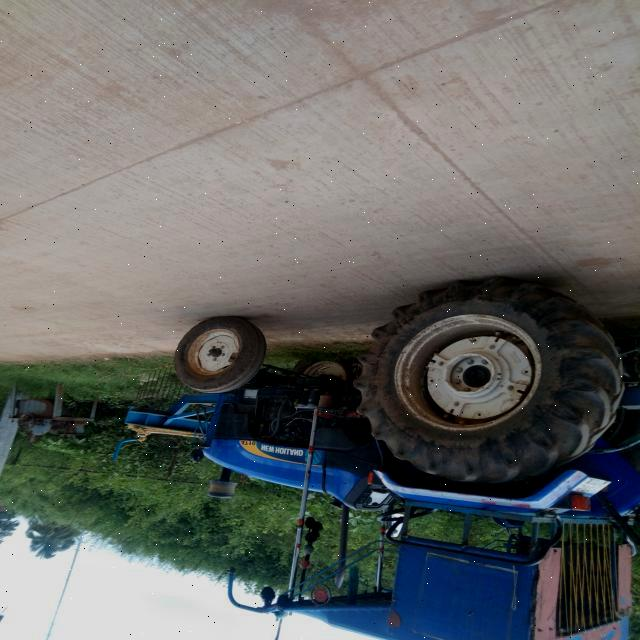Tratores - v5 YOLO V8L 2024-11-13: (123, 281, 640, 640)
